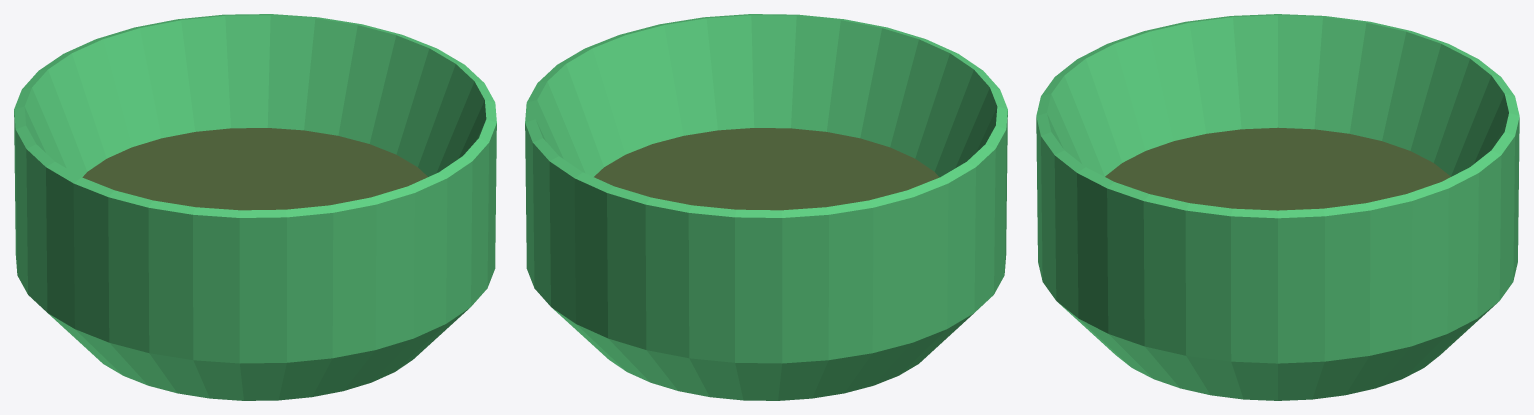
File: bin.fbx
3 views of the same model, side by side, from view 1: azimuth 30°, elevation 25°; view 2: azimuth 150°, elevation 25°; view 3: azimuth 270°, elevation 25° (orthographic).
Visible parts, largest first — view 1: Cylinder; view 2: Cylinder; view 3: Cylinder.
Part boxes in pixels (left/top/right/bottom): Cylinder: left=14, top=14, right=496, bottom=400; Cylinder: left=525, top=14, right=1007, bottom=400; Cylinder: left=1036, top=14, right=1519, bottom=400.
Bounding box in the file's own units: 435 × 212 × 435.
